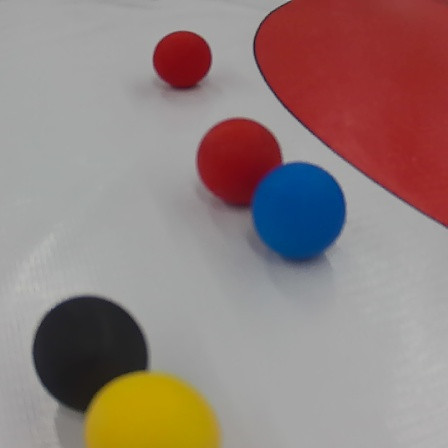black: (26, 293, 151, 400)
blue: (249, 159, 347, 267)
red: (191, 112, 283, 207), (148, 28, 214, 88)
red_base: (252, 2, 448, 230)
yellow: (84, 368, 223, 448)
